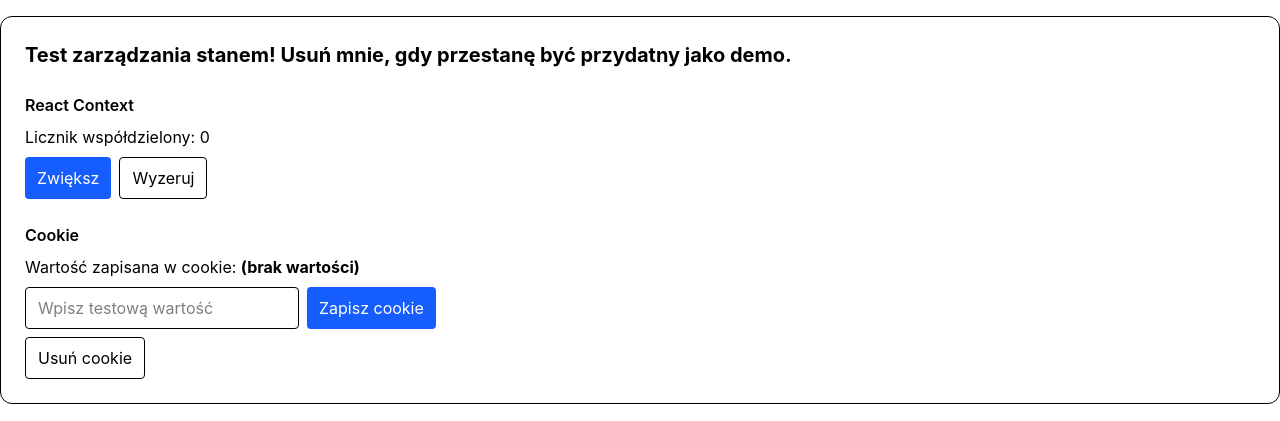
Test case: React Context — licznik › zeruje licznik po kliknięciu przycisku resetowania
Click the button "Zwiększ" at (68, 178), box [25,157,111,199]
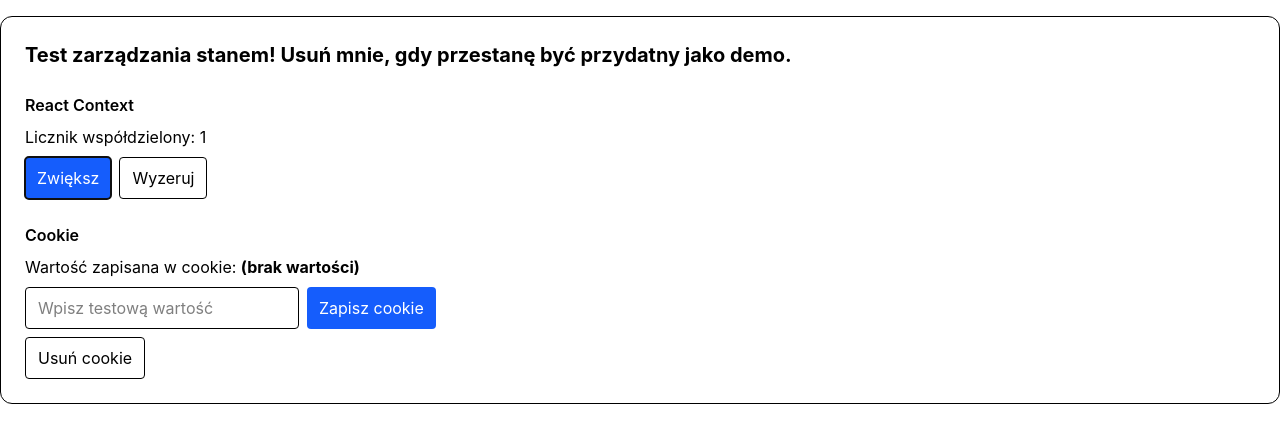
Click the button "Zwiększ" at (68, 178), box [25,157,111,199]
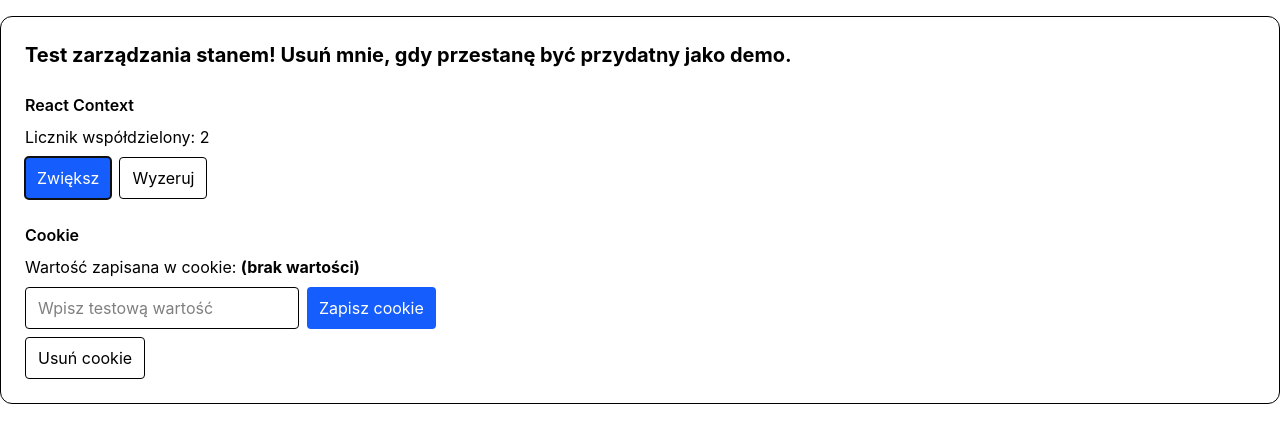
Click the button "Wyzeruj" at (163, 178), box [119,157,207,199]
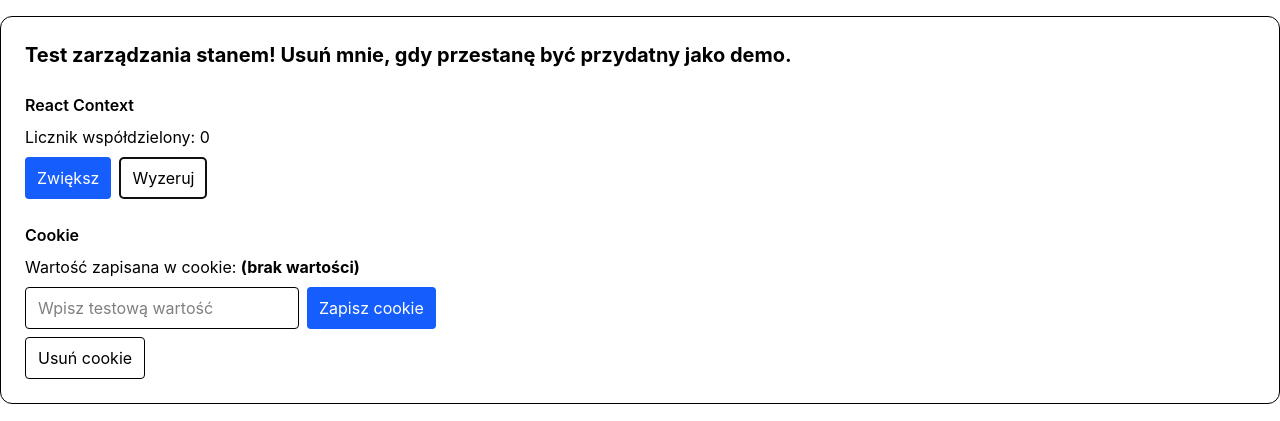
Expected: the text "Licznik współdzielony: 0" is shown, [25,127,210,147]
